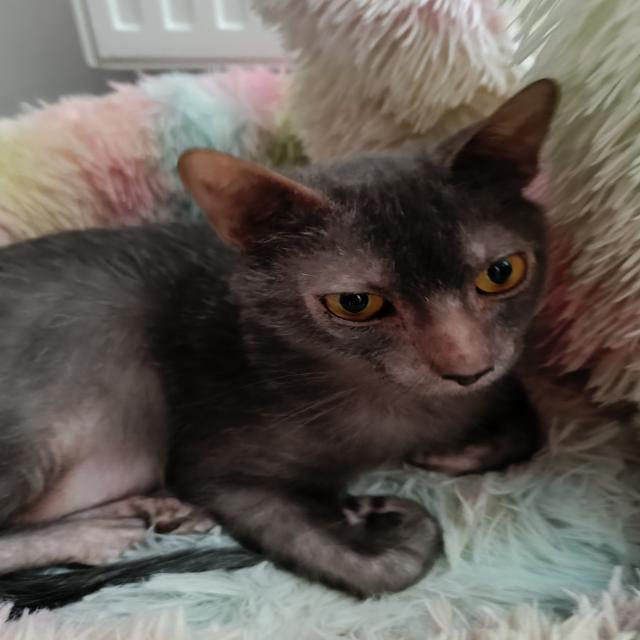Lykoi: (0, 73, 567, 624)
